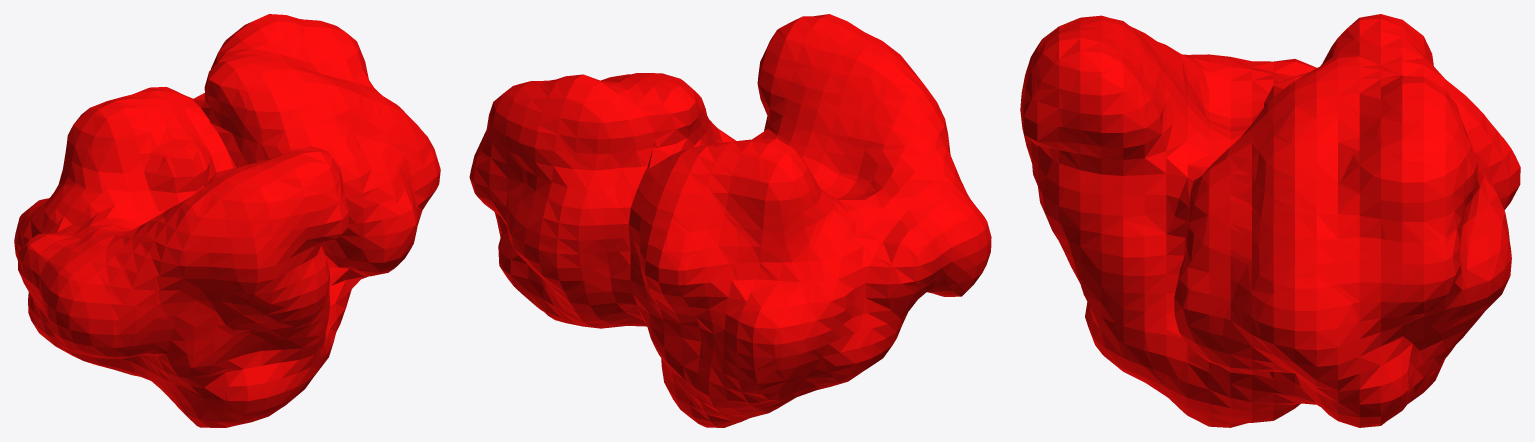
Rendered from lpxK_coarse.dae.
3 views of the same model, side by side, from view 1: azimuth 30°, elevation 25°; view 2: azimuth 150°, elevation 25°; view 3: azimuth 270°, elevation 25° (orthographic). The views are drawn at different scales.
Parts seen in each view (by area): view 1: lpxK; view 2: lpxK; view 3: lpxK.
Part boxes in pixels (x1,y1,x2,y2): lpxK: (14, 14, 440, 427); lpxK: (469, 14, 991, 427); lpxK: (1020, 14, 1520, 427).
Size of the model in its own units: 67.25 by 48.15 by 54.07.
